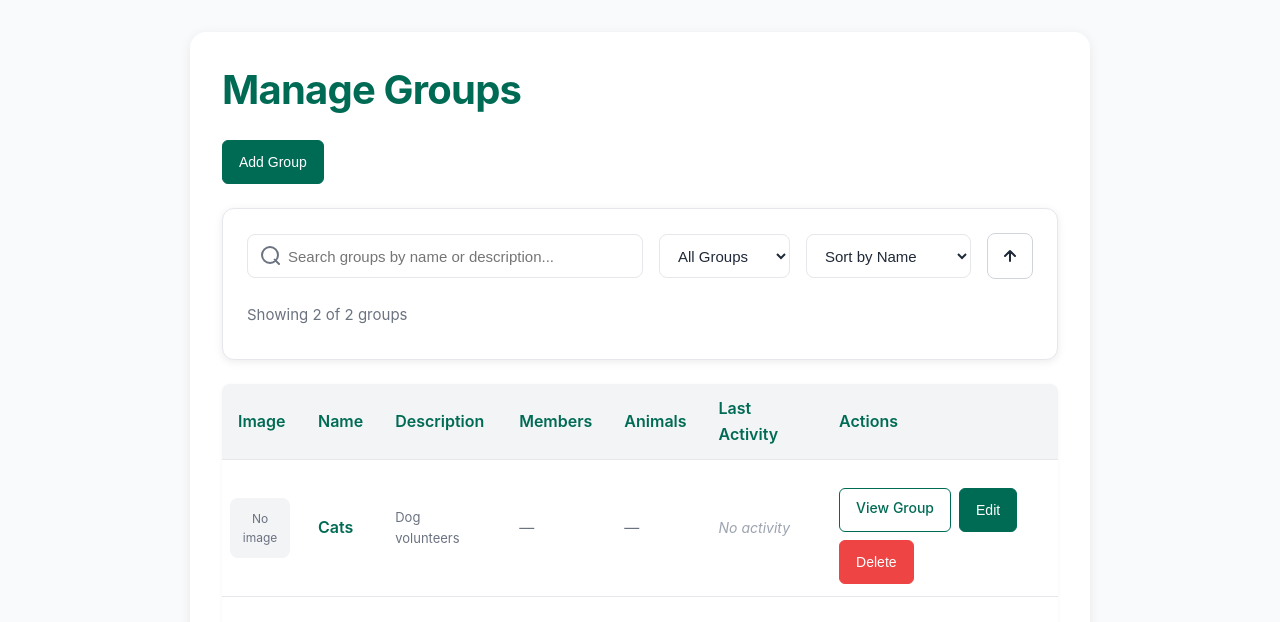
Test: GroupsPage scheduling setting › reflects the group's current scheduling_enabled value when editing
Click the button "Edit" in the row of "Cats" at (988,510), box [959, 488, 1017, 532]
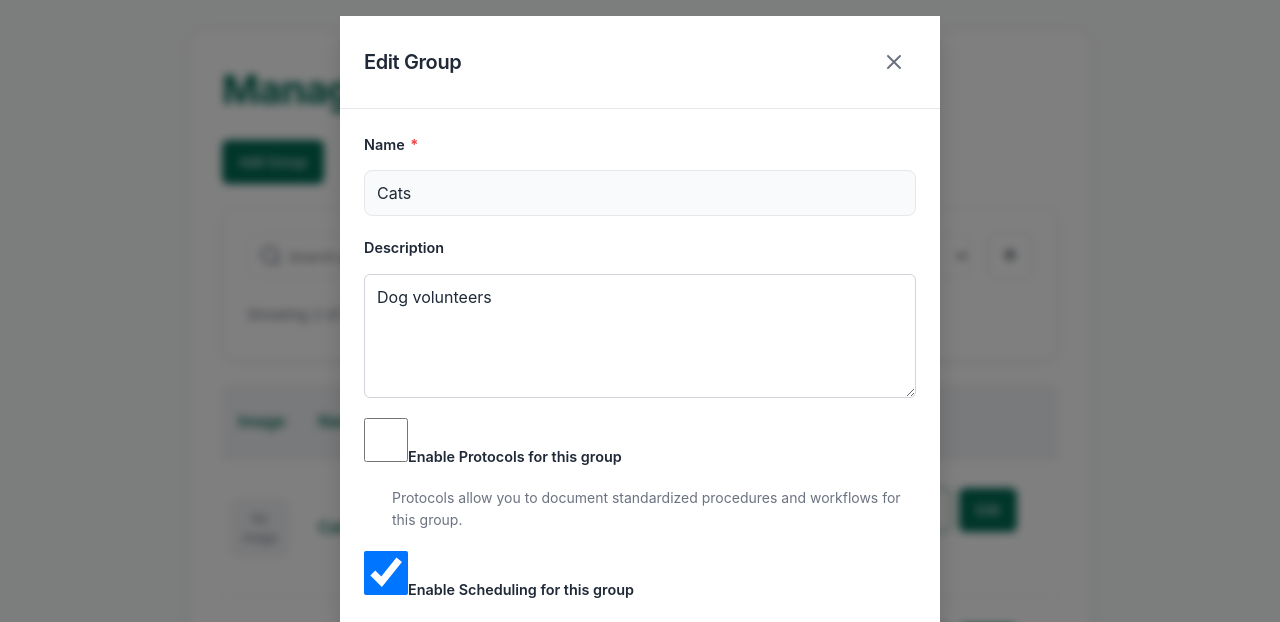
Expected: the checkbox labelled "Enable Scheduling for this group" is checked, [364, 552, 408, 596]
